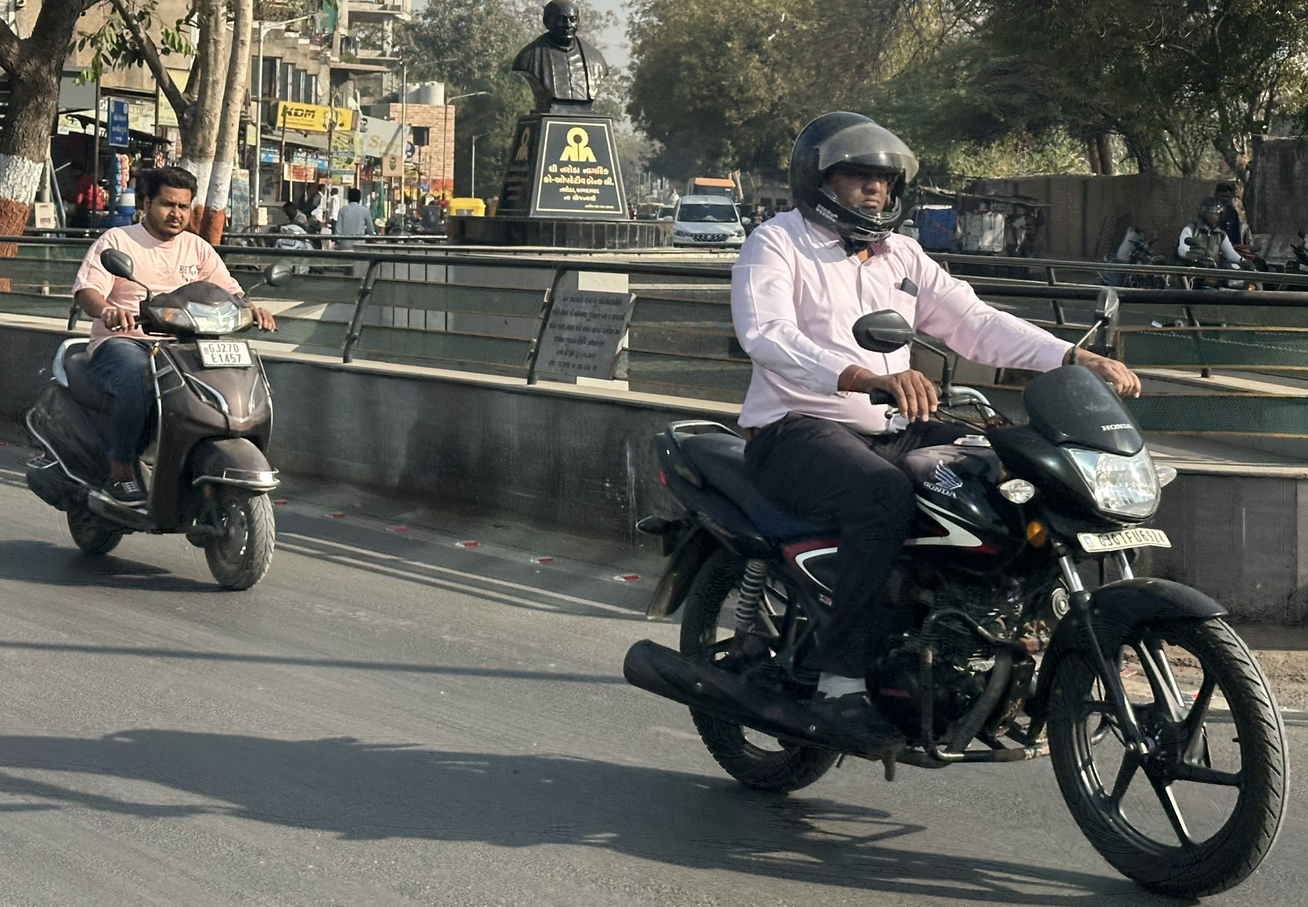BikeWithRider: (612, 93, 1308, 907), (15, 136, 296, 599)
Helmet: (774, 100, 933, 260)
NoHelmet: (129, 157, 214, 249)
